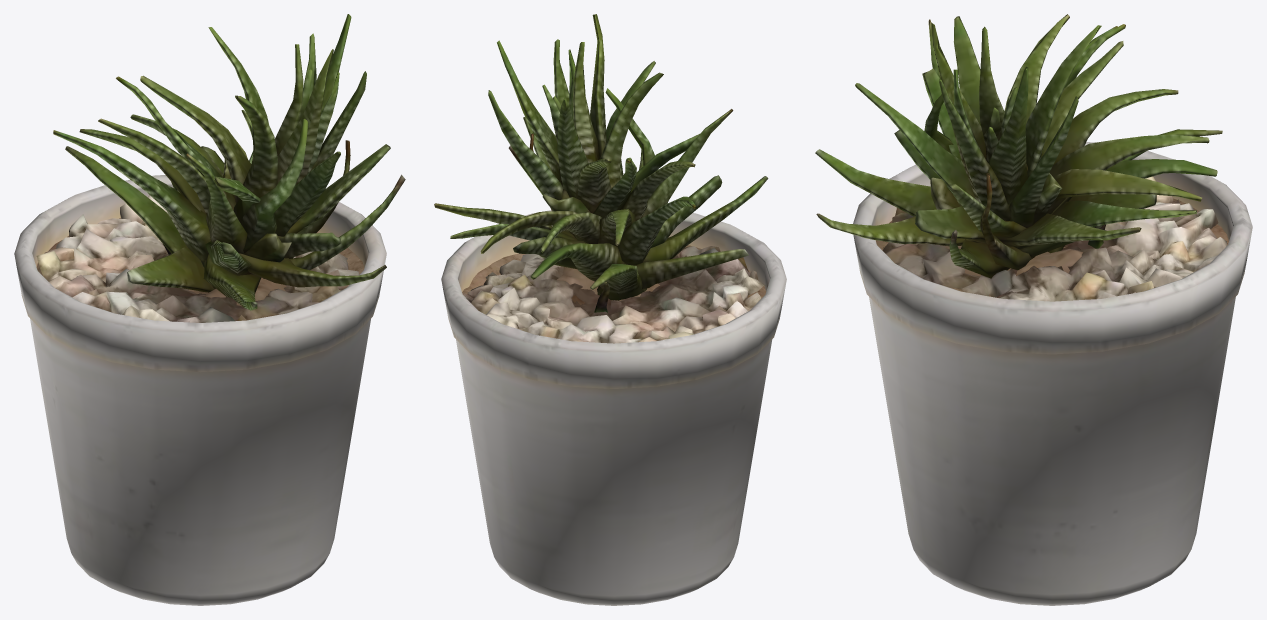
Rendered from potted_plant_04_2k.glb.
3 views of the same model, side by side, from view 1: azimuth 30°, elevation 25°; view 2: azimuth 150°, elevation 25°; view 3: azimuth 270°, elevation 25° (orthographic). The views are drawn at different scales.
Parts seen in each view (by area): view 1: potted_plant_04; view 2: potted_plant_04; view 3: potted_plant_04.
Boxes of the visible parts, x1=… form: potted_plant_04: x1=14, y1=14, x2=405, y2=605; potted_plant_04: x1=434, y1=14, x2=786, y2=605; potted_plant_04: x1=815, y1=14, x2=1252, y2=605.
Size of the model in its own units: 0.1703 by 0.2673 by 0.1859.
Materials: 1 (1 with a texture image).
